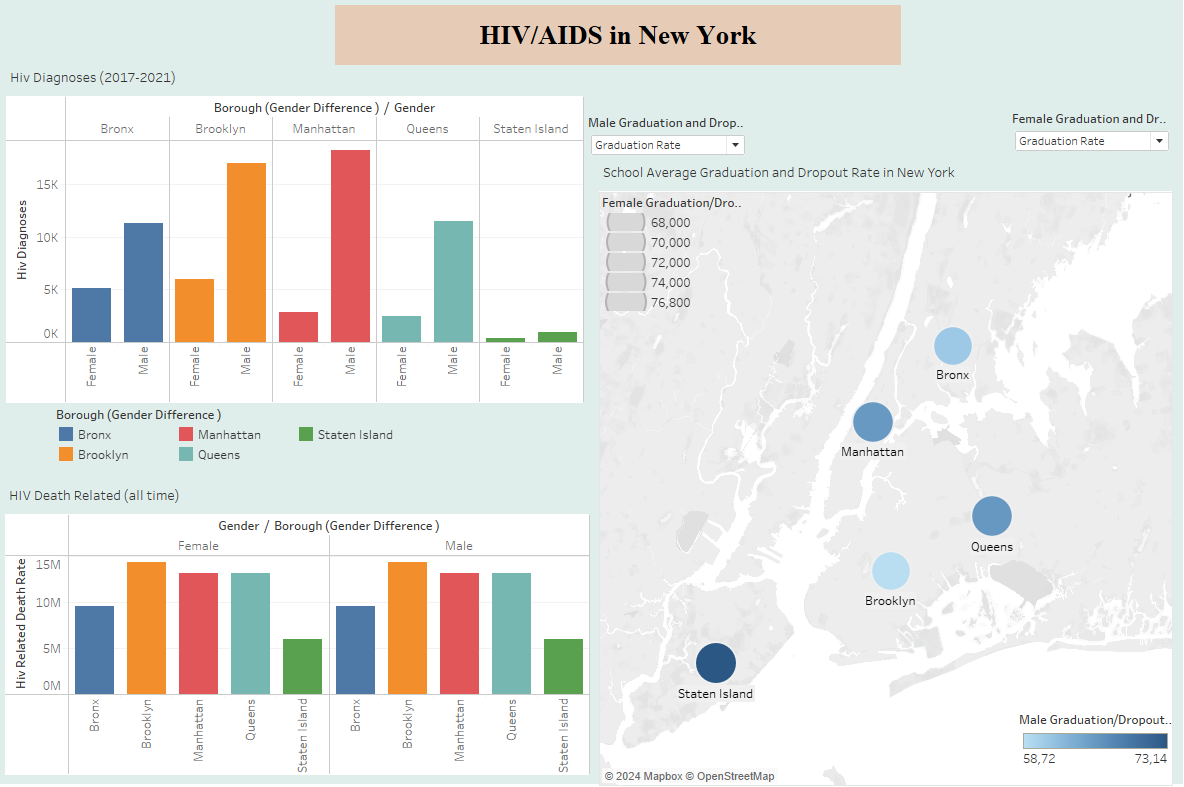

The dashboard page shown, as its layout file describes it:
{"tool":"tableau","page":{"name":"Painel 3","canvas":[1200,800],"ordinal":2},"visuals":[{"type":"text","box":[344,13,566,60]},{"type":"worksheet","title":"hiv and aids diagnoses 8","mark":"Automatic","rows":["hiv_diagnoses"],"cols":["borough (gender_difference_)","gender"],"box":[15,72,578,339]},{"type":"parameter","param":"[Parameters].[Parâmetro 5]","box":[1021,118,160,44]},{"type":"parameter","param":"[Parameters].[Parâmetro 4]","box":[597,122,160,44]},{"type":"worksheet","title":"School Graduation + Dropout Rate","mark":"Automatic","box":[608,167,574,627]},{"type":"legend","title":"School Graduation + Dropout Rate","param":"[federated.0r1x5ge0603gc311q45lj1jxh3pb].[usr:Calculation_1562186160981512194:qk","box":[611,202,140,118]},{"type":"legend","title":"hiv and aids diagnoses 8","param":"[federated.0r1x5ge0603gc311q45lj1jxh3pb].[none:borough (gender_difference_):nk]","box":[65,414,460,66]},{"type":"legend","title":"hiv death related","param":"[federated.0r1x5ge0603gc311q45lj1jxh3pb].[none:gender:nk]","box":[377,461,140,58]},{"type":"worksheet","title":"hiv death related","mark":"Automatic","rows":["hiv_related_death_rate"],"cols":["gender","borough (gender_difference_)"],"box":[14,490,585,293]},{"type":"legend","title":"School Graduation + Dropout Rate","param":"[federated.0r1x5ge0603gc311q45lj1jxh3pb].[usr:Calculation_1562186160979902464:qk","box":[1028,719,153,76]}]}

Visuals, with their boxes in screenshot pixels (x1, y1, x2, y2), scaled from the page's 1200x800 canvas onto the 1184x787 screenshot:
text: [339, 13, 898, 72]
"hiv and aids diagnoses 8" worksheet: [15, 71, 585, 404]
parameter: [1007, 116, 1165, 159]
parameter: [589, 120, 747, 163]
"School Graduation + Dropout Rate" worksheet: [600, 164, 1166, 781]
"School Graduation + Dropout Rate" legend: [603, 199, 741, 315]
"hiv and aids diagnoses 8" legend: [64, 407, 518, 472]
"hiv death related" legend: [372, 454, 510, 511]
"hiv death related" worksheet: [14, 482, 591, 770]
"School Graduation + Dropout Rate" legend: [1014, 707, 1165, 782]
